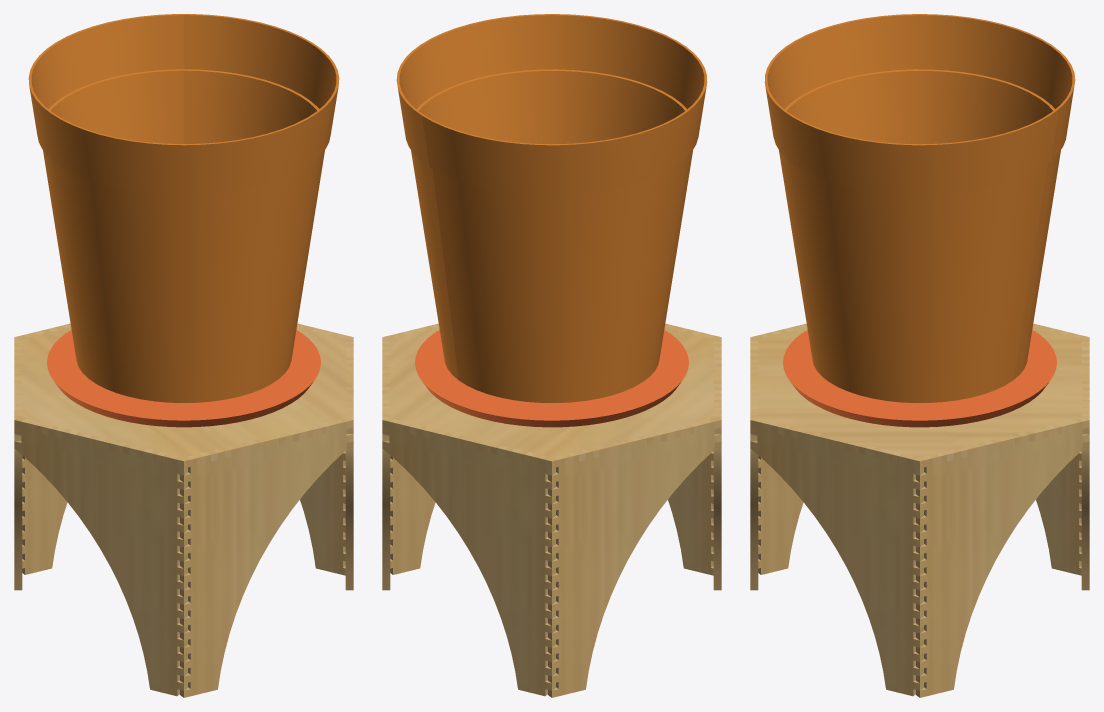
File: pot.glb
The picture shows the model from 3 angles, left to right: view 1: azimuth 30°, elevation 25°; view 2: azimuth 150°, elevation 25°; view 3: azimuth 270°, elevation 25°; orthographic projection.
Parts seen in each view (by area): view 1: Body2.001, Body1.002, Body1, Body1.001, Body1.003, Body11, Body2, Body3, Body10; view 2: Body2.001, Body2, Body10, Body1.001, Body1.003, Body1, Body3, Body1.002, Body11; view 3: Body2.001, Body3, Body11, Body1.001, Body1.003, Body10, Body1.002, Body2, Body1.
Part boxes in pixels (left/top/right/bottom): Body2.001: left=28, top=14, right=339, bottom=402; Body1.002: left=14, top=419, right=187, bottom=696; Body1: left=180, top=419, right=353, bottom=697; Body1.001: left=14, top=323, right=353, bottom=468; Body1.003: left=47, top=330, right=320, bottom=427; Body11: left=297, top=324, right=346, bottom=575; Body2: left=21, top=324, right=70, bottom=574; Body3: left=345, top=340, right=353, bottom=590; Body10: left=14, top=340, right=22, bottom=590; Body2.001: left=396, top=14, right=707, bottom=402; Body2: left=382, top=419, right=555, bottom=696; Body10: left=548, top=419, right=721, bottom=697; Body1.001: left=382, top=323, right=721, bottom=468; Body1.003: left=415, top=330, right=688, bottom=427; Body1: left=665, top=324, right=714, bottom=575; Body3: left=389, top=324, right=439, bottom=574; Body1.002: left=713, top=340, right=721, bottom=590; Body11: left=382, top=340, right=390, bottom=590; Body2.001: left=764, top=14, right=1075, bottom=402; Body3: left=750, top=419, right=923, bottom=696; Body11: left=916, top=419, right=1089, bottom=697; Body1.001: left=750, top=323, right=1089, bottom=468; Body1.003: left=783, top=330, right=1056, bottom=427; Body10: left=1032, top=324, right=1082, bottom=575; Body1.002: left=757, top=324, right=806, bottom=574; Body2: left=1081, top=340, right=1089, bottom=590; Body1: left=750, top=340, right=758, bottom=590.
Size of the model in its own units: 0.3 by 0.4527 by 0.2598.
Materials: 4 (2 with a texture image).
